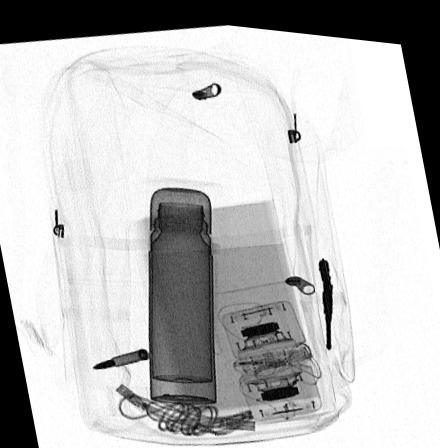Bullet: (91, 343, 147, 366)
Gun: (317, 250, 332, 341)
